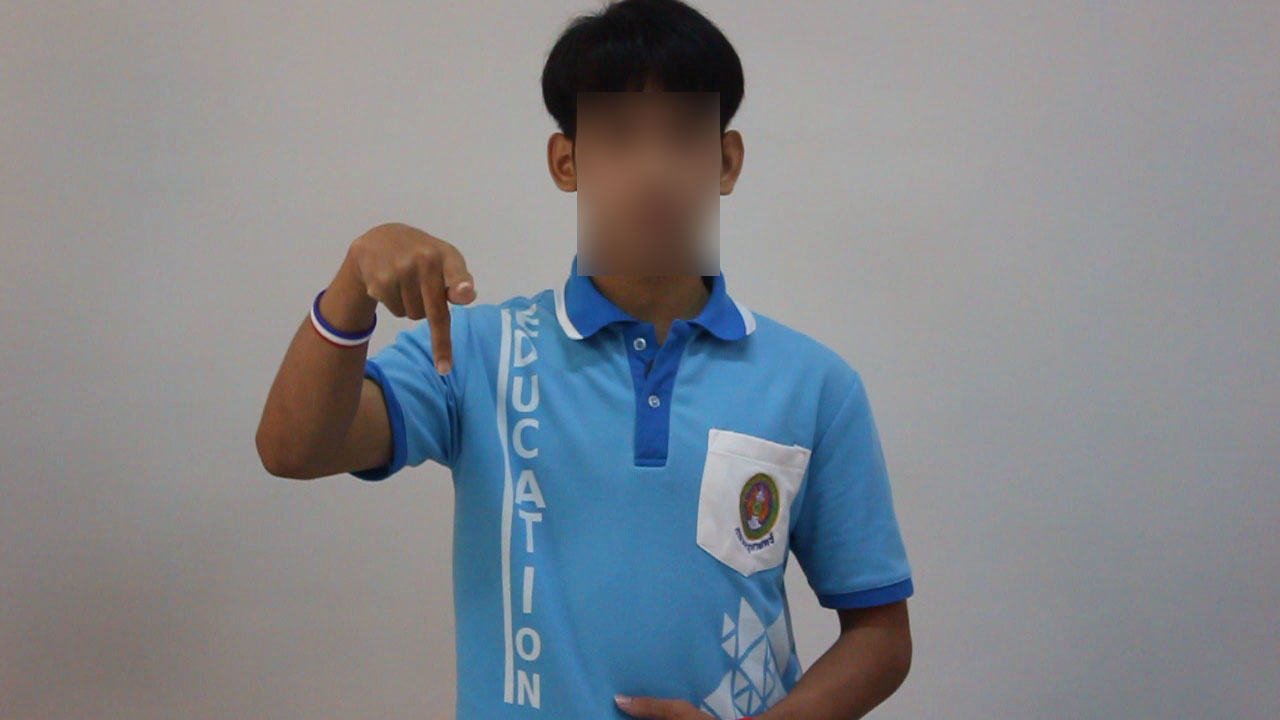por: (340, 198, 483, 383)
